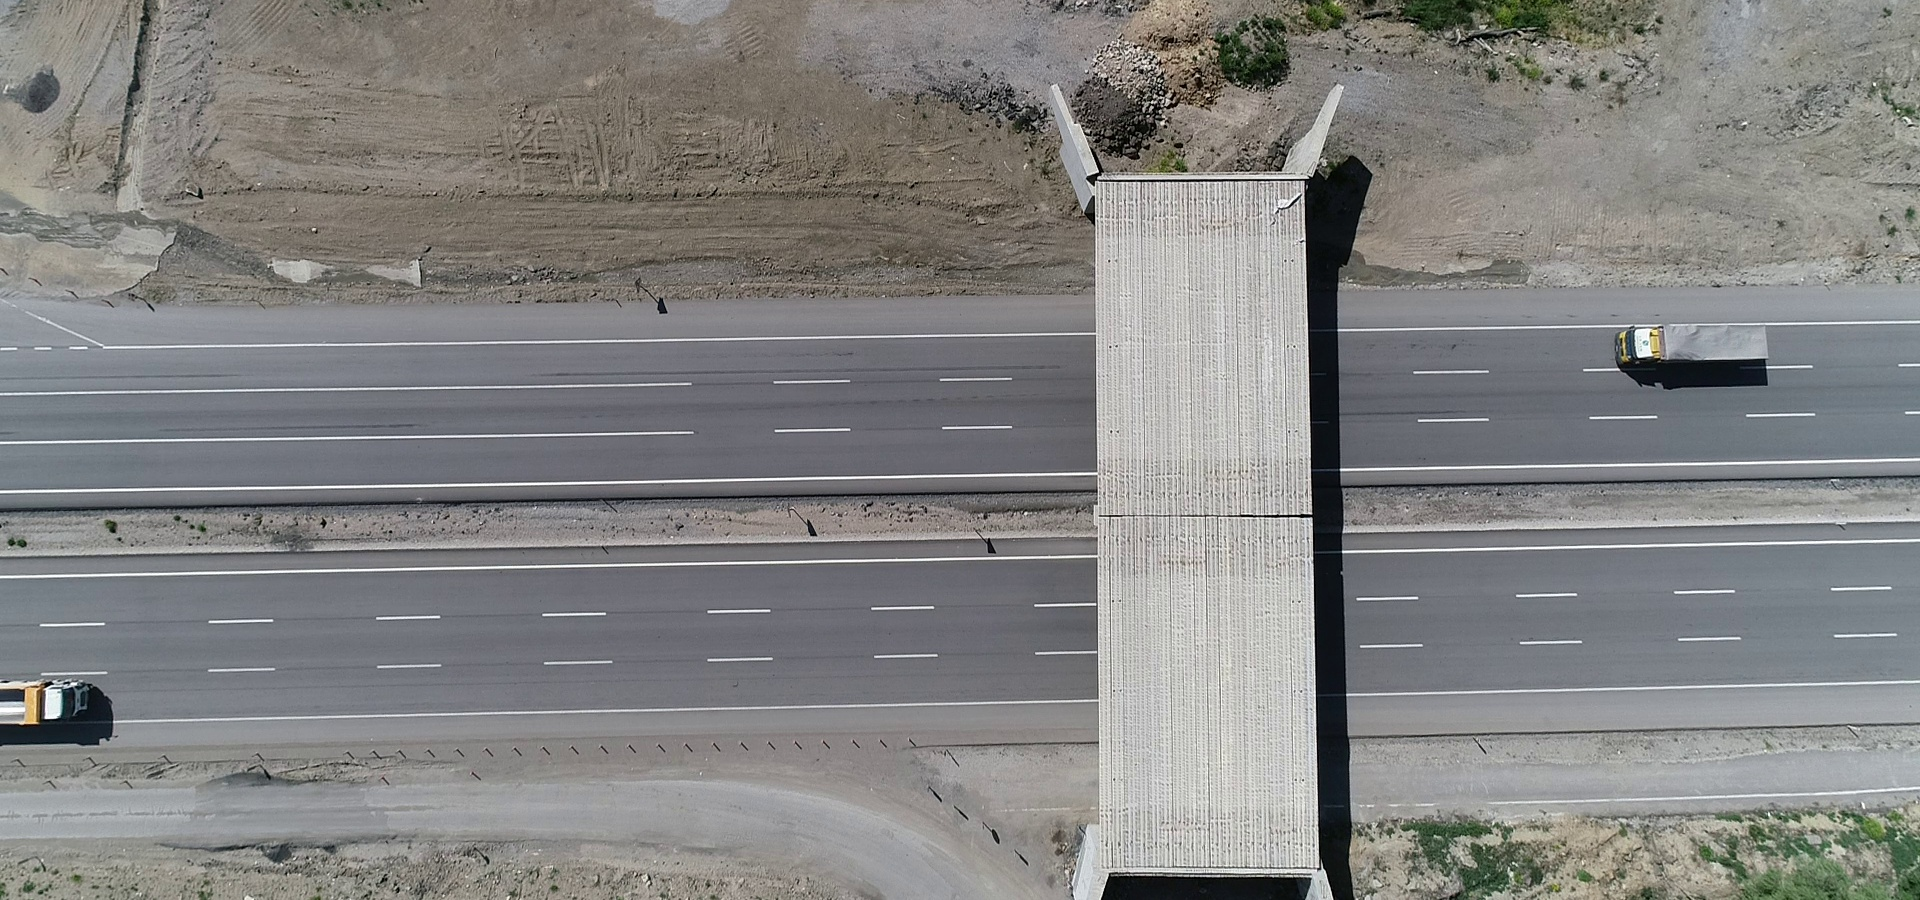arac: (1611, 313, 1785, 384), (1, 654, 114, 736)
